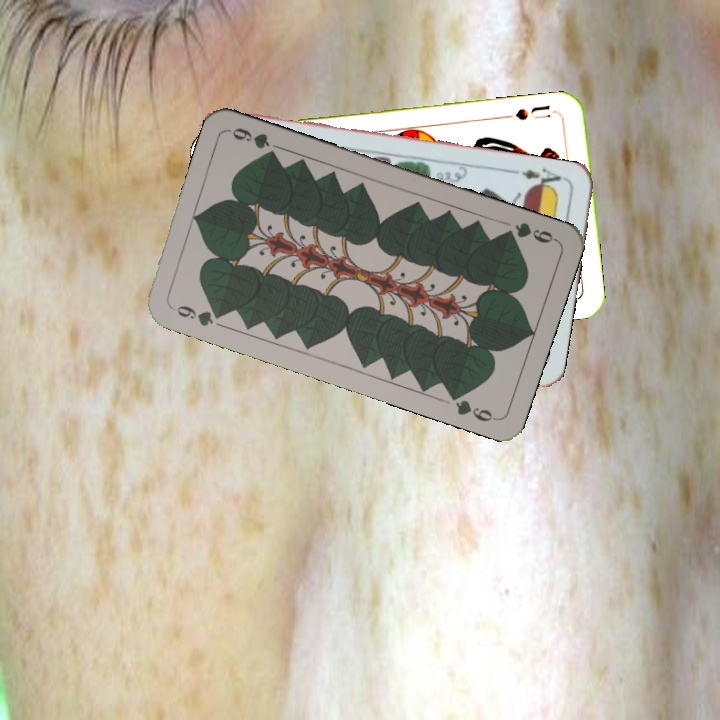EA: (509, 164, 569, 193)
G9: (167, 301, 227, 330), (498, 218, 559, 246)
SU: (502, 101, 561, 123)
